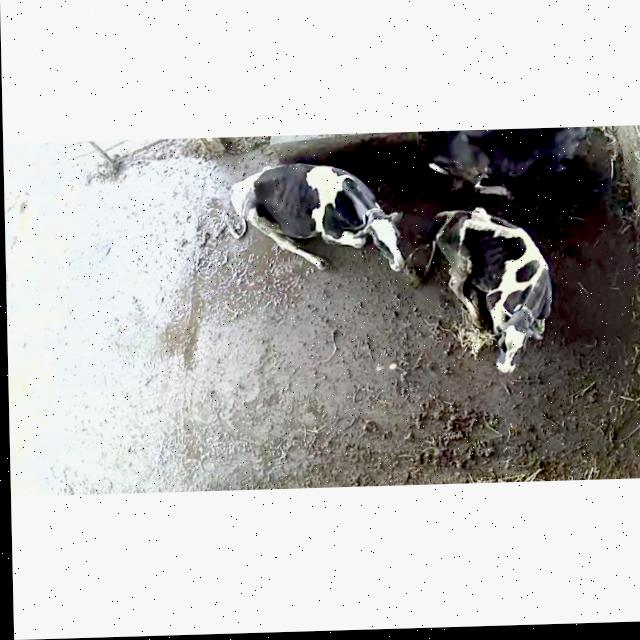lay: (418, 201, 578, 382), (201, 156, 409, 286)
